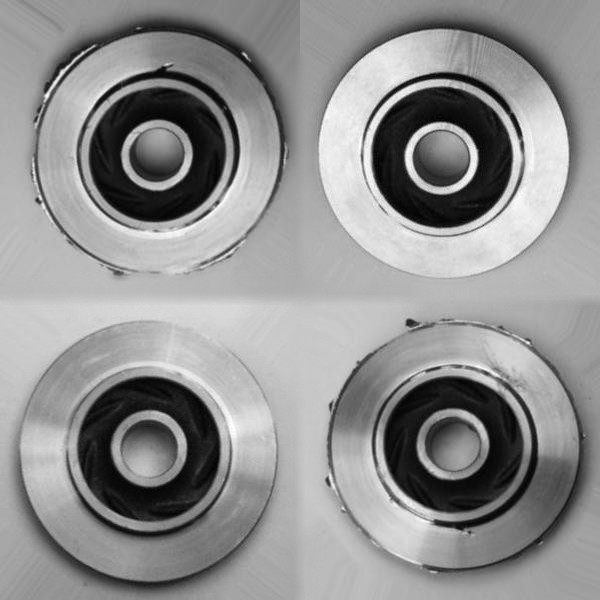pump_impeller: (13, 312, 291, 591), (310, 15, 584, 286), (313, 310, 581, 584), (21, 22, 298, 286)
